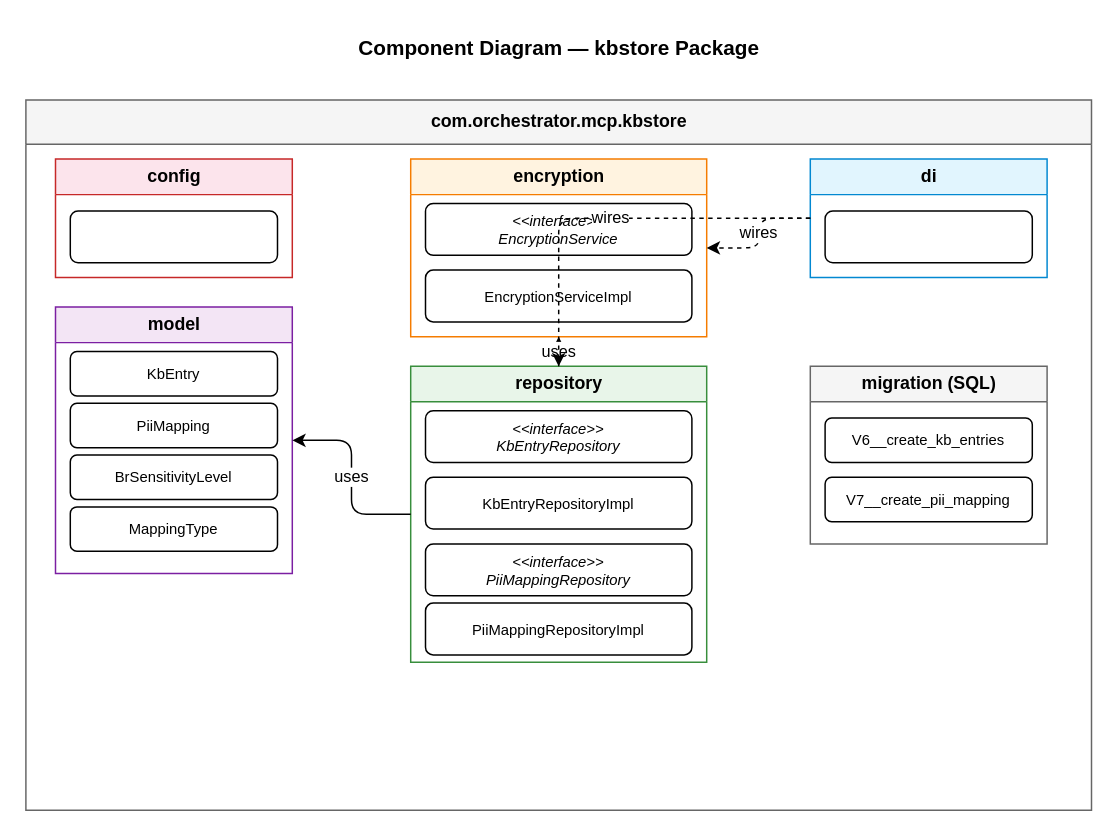
Some shapes in this 1117 by 836 pixel diagram are drawn without their labels. Each missing label, with the centre of its shape:
"KbStoreConfig" belongs at point (173, 236).
"KbStoreModule" belongs at point (928, 236).
